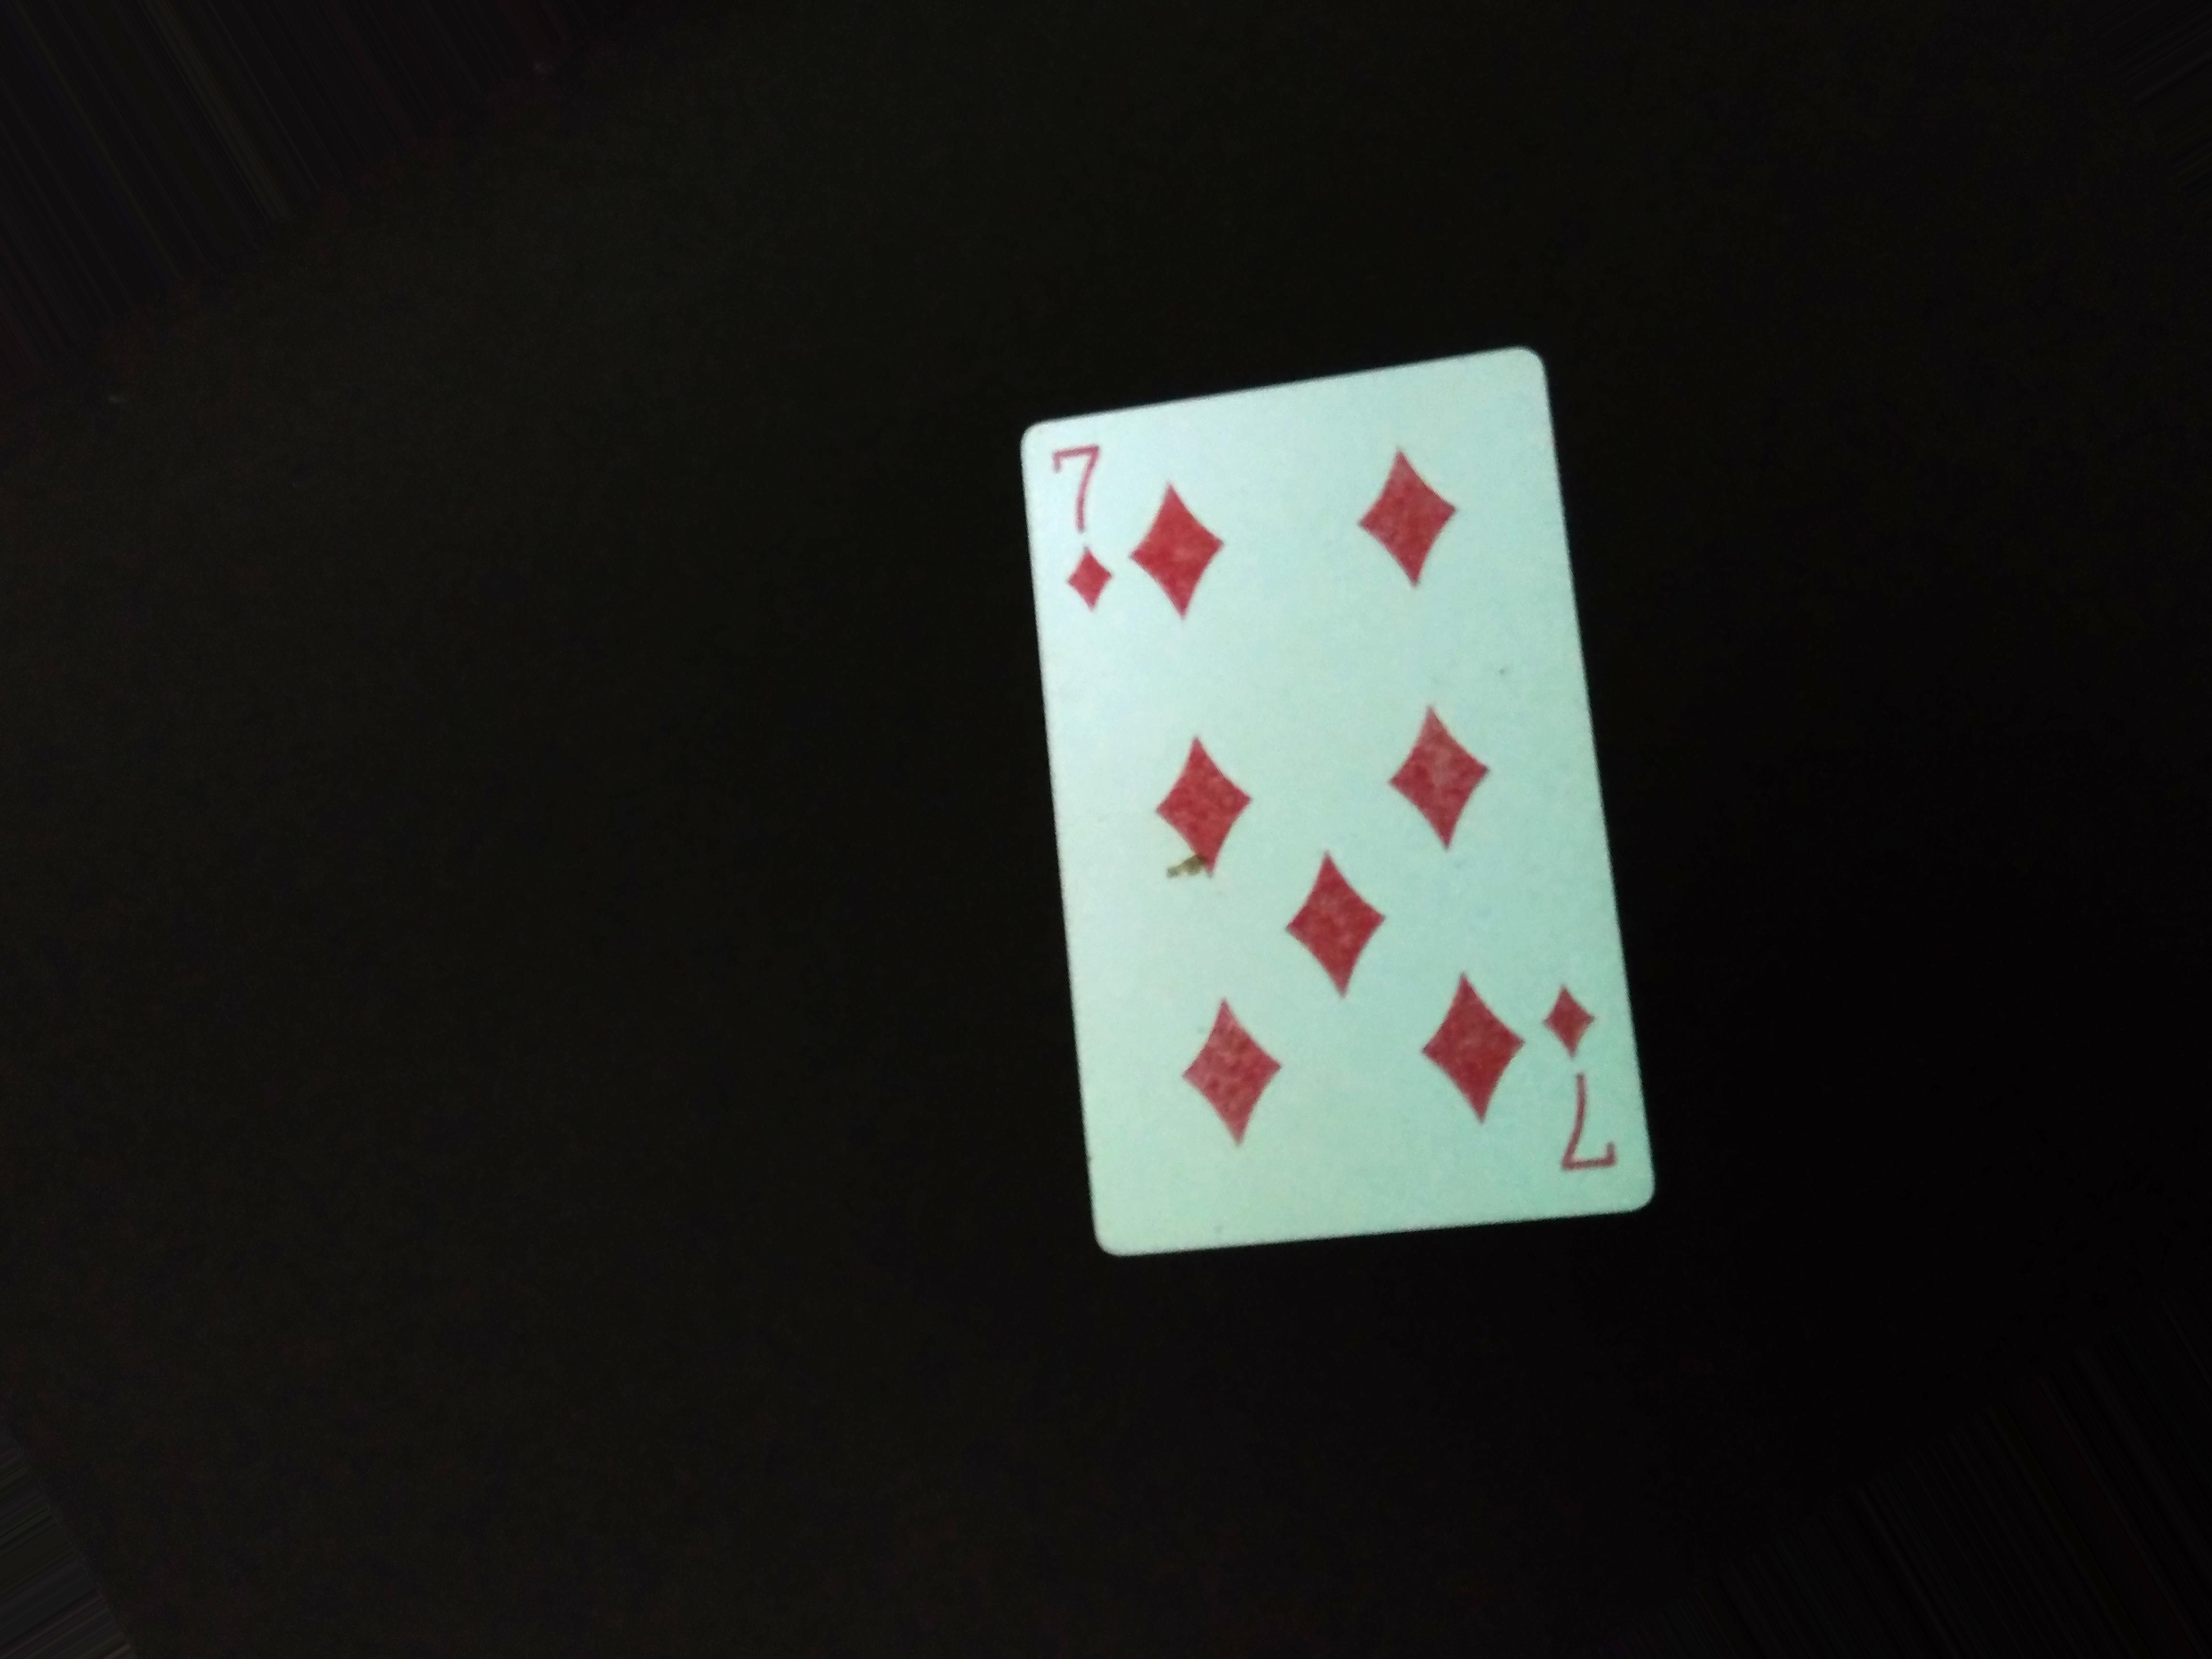7D: (1519, 953, 1651, 1182)
